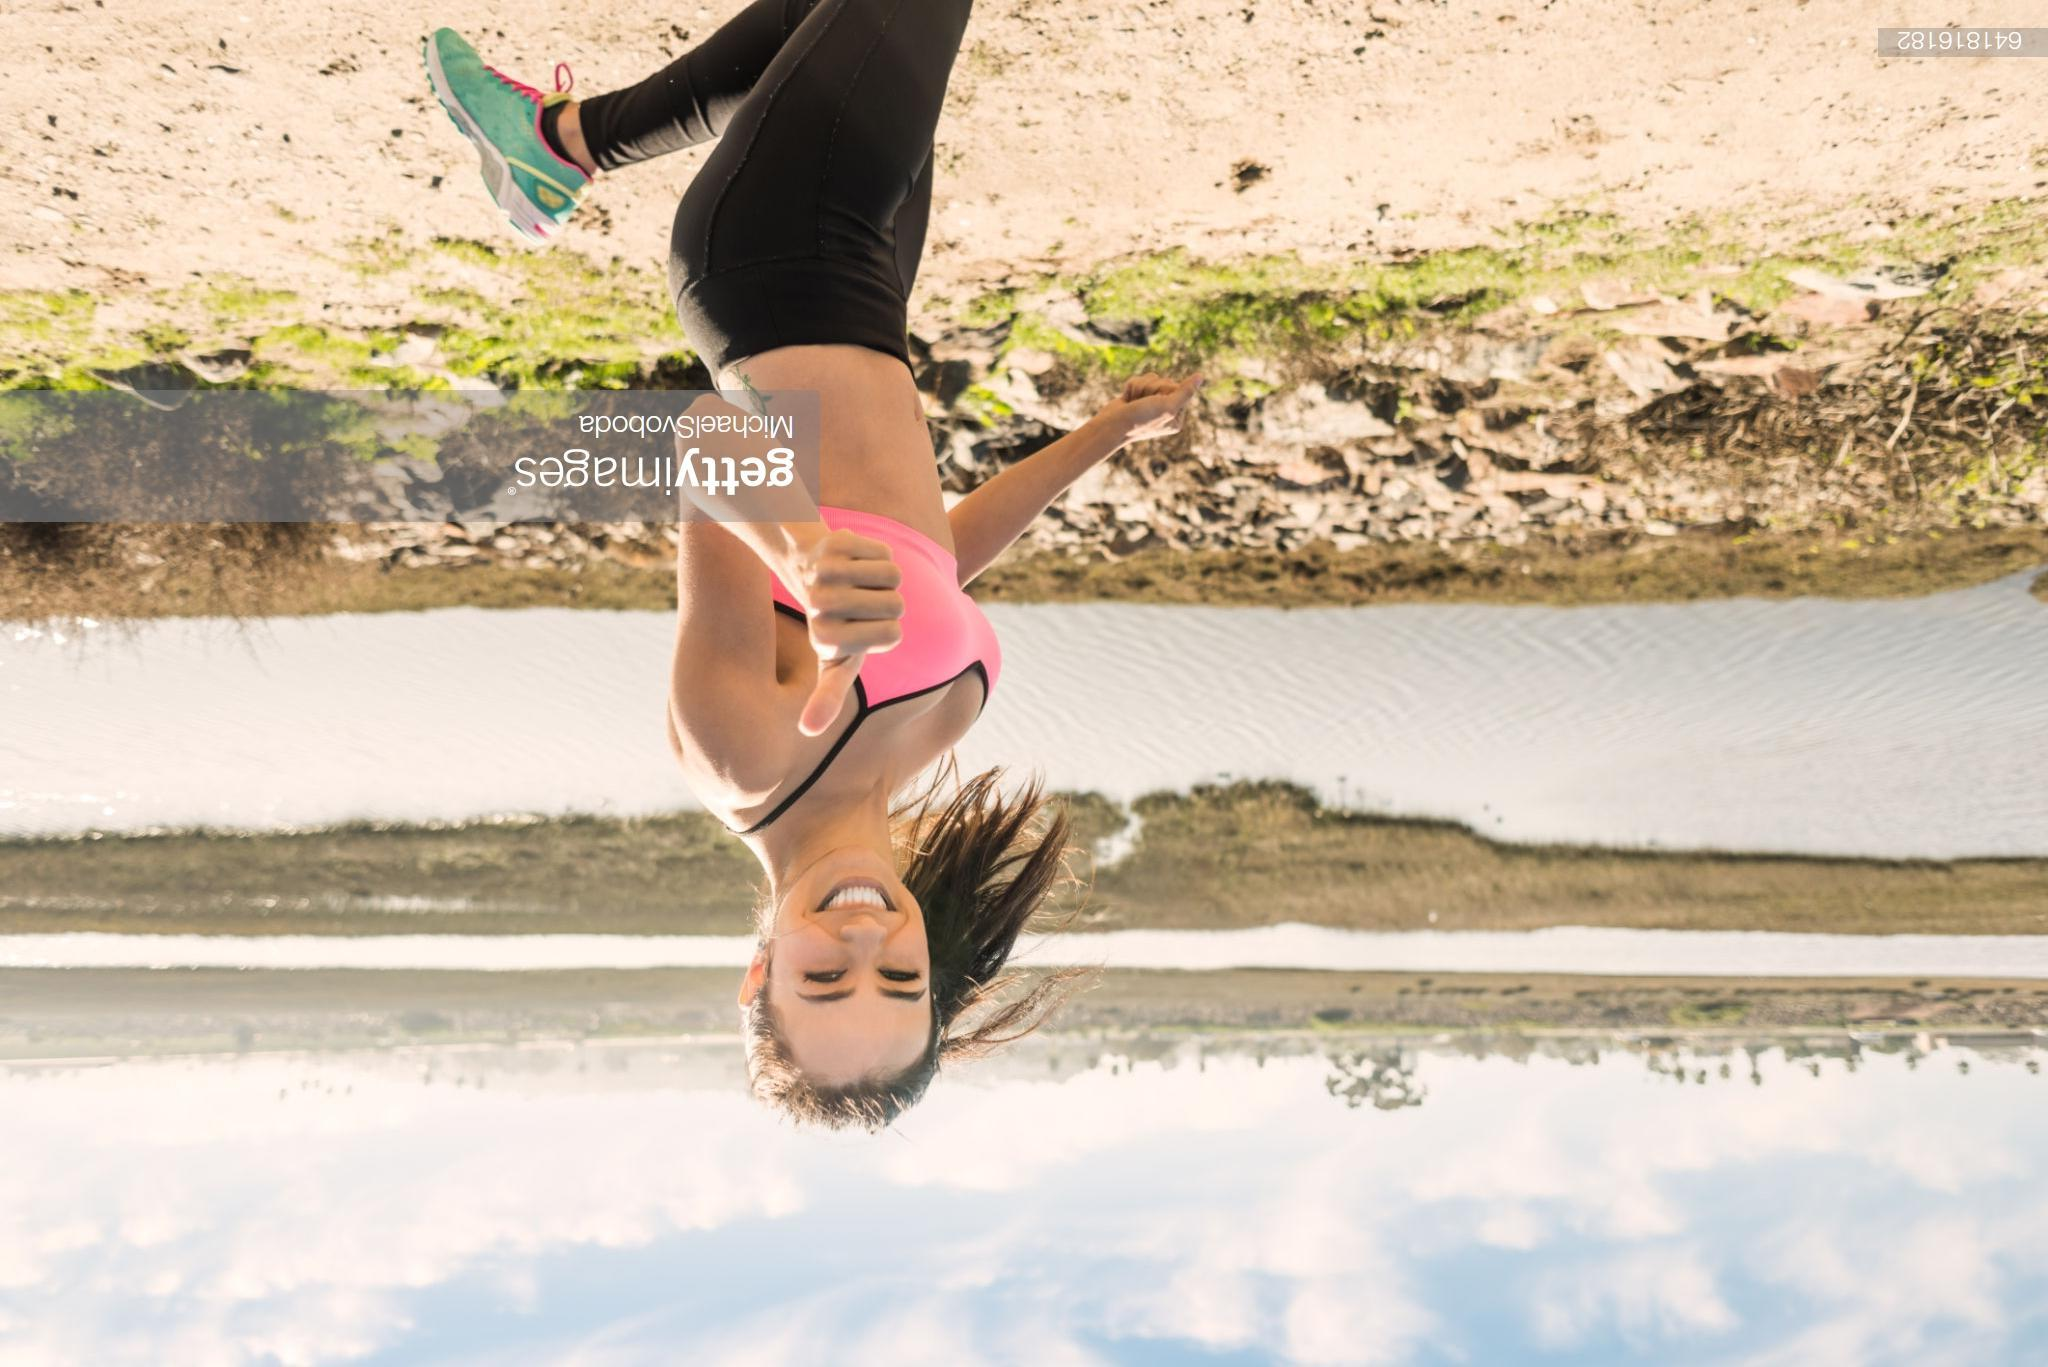thumbsdown: (798, 531, 906, 738)
